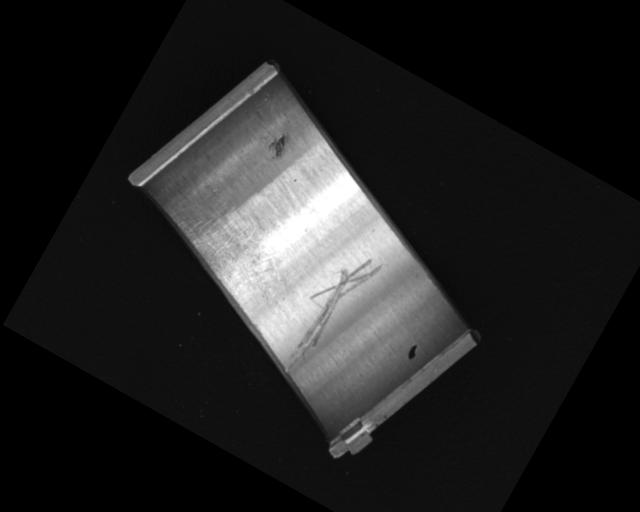blot: (405, 341, 422, 361)
bruise: (263, 128, 293, 161)
nick: (271, 241, 384, 390)
scratch: (157, 180, 304, 315)
